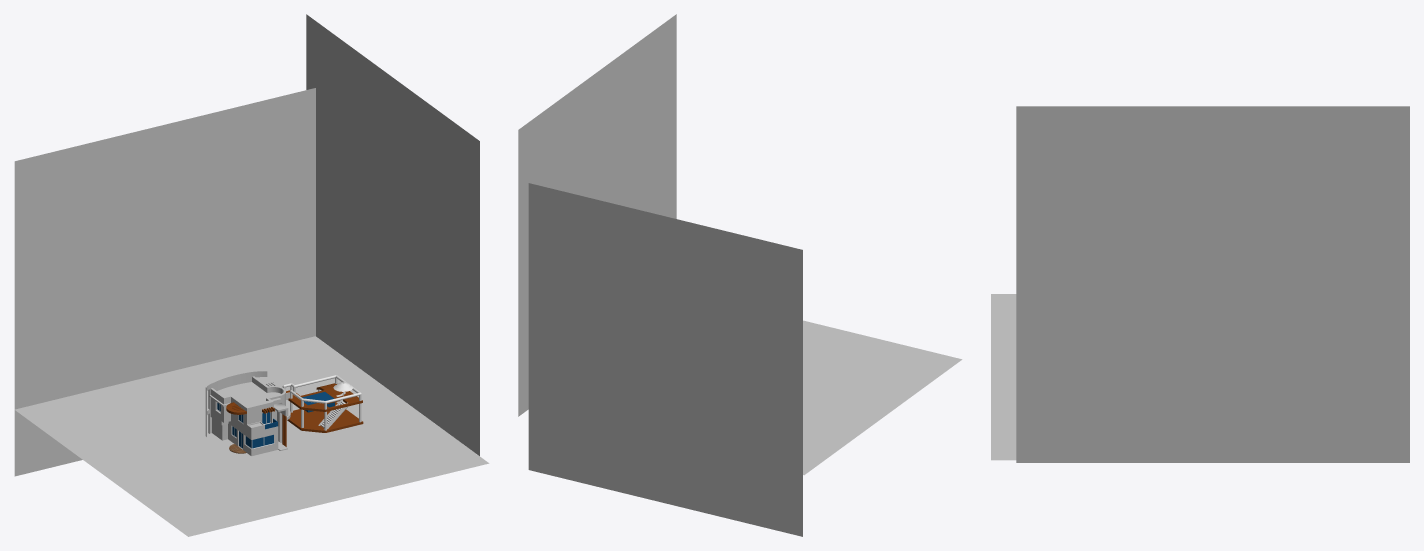
3 views of the same model, side by side, from view 1: azimuth 30°, elevation 25°; view 2: azimuth 150°, elevation 25°; view 3: azimuth 270°, elevation 25° (orthographic). The views are drawn at different scales.
Visible parts, largest first — view 1: Plane003, Plane004, Plane001, 집 건물, 2.밑바닭, 3.위층 바닥, 4.5 위토대; view 2: Plane003, Plane004, Plane001; view 3: Plane004, Plane001.
Part boxes in pixels (x1=…): Plane003: x1=14, y1=88, x2=315, y2=476; Plane004: x1=306, y1=14, x2=479, y2=455; Plane001: x1=15, y1=336, x2=489, y2=536; 집 건물: x1=205, y1=370, x2=290, y2=456; 2.밑바닭: x1=287, y1=402, x2=363, y2=432; 3.위층 바닥: x1=286, y1=383, x2=362, y2=411; 4.5 위토대: x1=282, y1=375, x2=361, y2=409; Plane003: x1=528, y1=183, x2=802, y2=536; Plane004: x1=518, y1=14, x2=676, y2=416; Plane001: x1=803, y1=320, x2=962, y2=475; Plane004: x1=1016, y1=106, x2=1409, y2=462; Plane001: x1=991, y1=294, x2=1016, y2=460.
Size of the model in its own units: 503 by 604 by 532.
